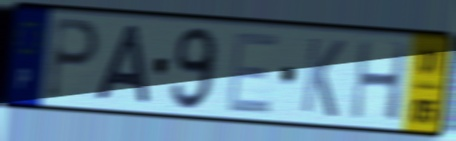9: (169, 24, 221, 114)
A: (92, 22, 153, 108)
E: (224, 30, 282, 118)
H: (348, 38, 411, 124)
K: (298, 34, 348, 121)
P: (44, 15, 103, 104)
